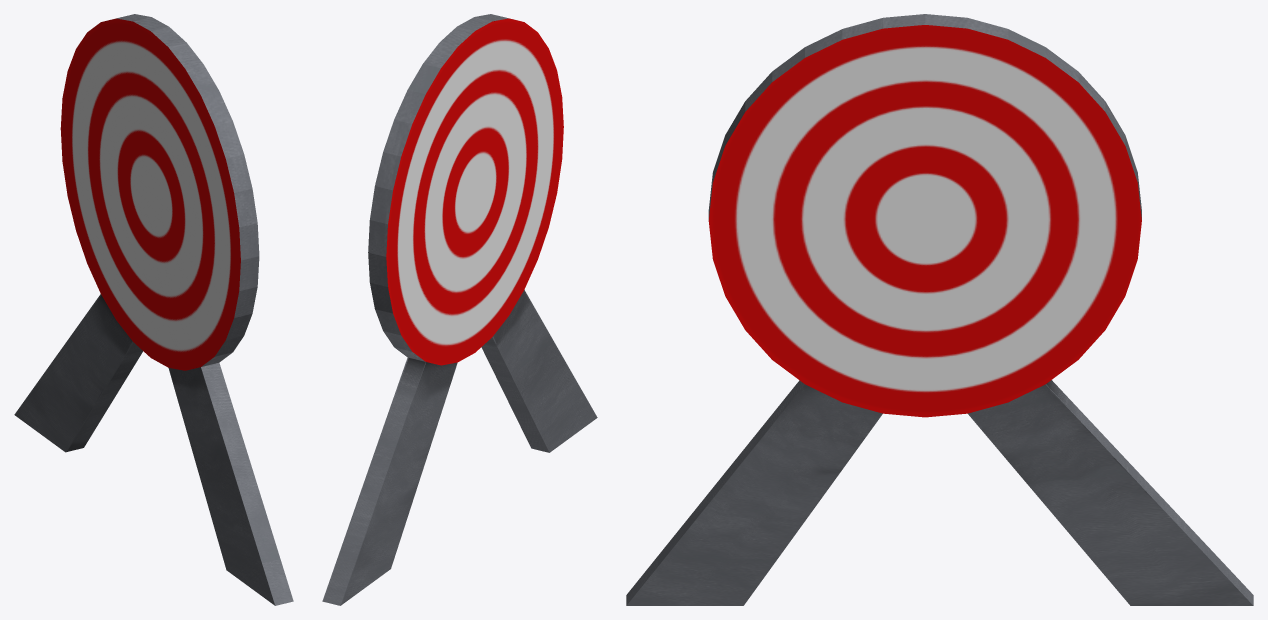
The model's file is Target.fbx.
3 renders of one model, left to right at view 1: azimuth 30°, elevation 25°; view 2: azimuth 150°, elevation 25°; view 3: azimuth 270°, elevation 25°, orthographic. The views are drawn at different scales.
Parts seen in each view (by area): view 1: Circle; view 2: Circle; view 3: Circle.
Boxes of the visible parts, bbox=[...] form: Circle: bbox=[14, 14, 293, 605]; Circle: bbox=[322, 14, 597, 605]; Circle: bbox=[626, 14, 1253, 605].
Size of the model in its own units: 11.83 by 296 by 290.
